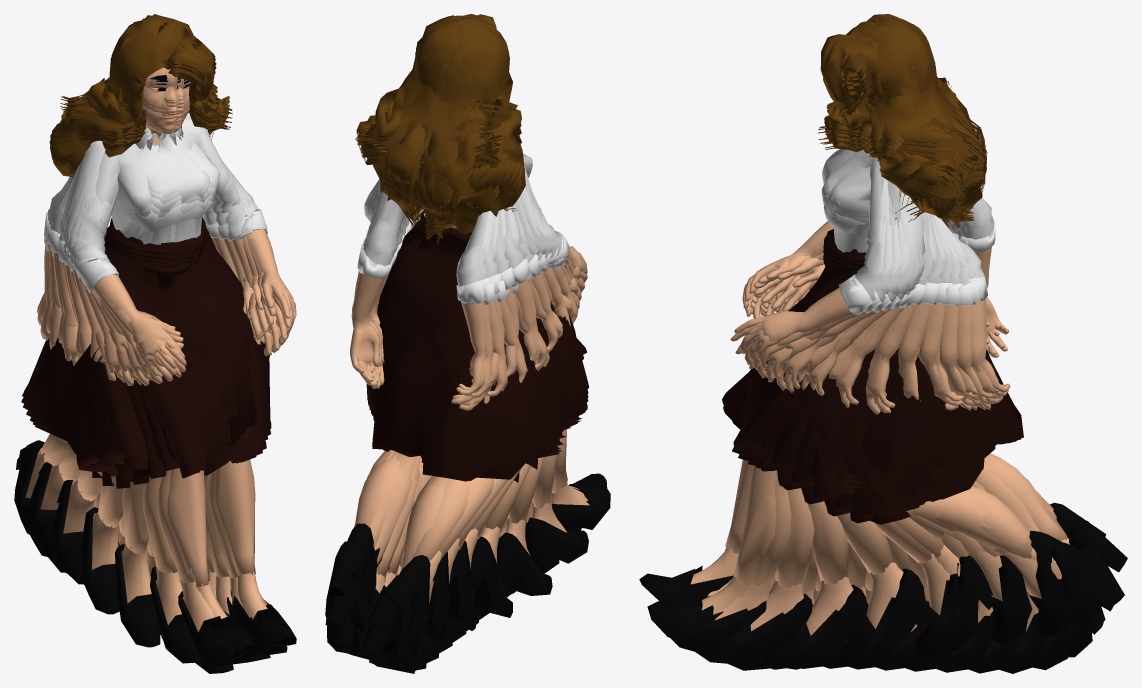
File: caminante_hombre2.glb
The picture shows the model from 3 angles, left to right: view 1: azimuth 30°, elevation 25°; view 2: azimuth 150°, elevation 25°; view 3: azimuth 270°, elevation 25°; orthographic projection. The views are drawn at different scales.
Parts seen in each view (by area): view 1: frame13, frame14, frame17, frame6, frame12, frame15, frame16, frame2, frame11, frame7, frame10, frame4 (+12 smaller); view 2: frame13, frame8, frame20, frame9, frame7, frame12, frame10, frame14, frame0, frame1, frame2, frame11 (+12 smaller); view 3: frame2, frame0, frame1, frame3, frame20, frame6, frame4, frame21, frame23, frame19, frame17, frame22 (+12 smaller).
Part boxes in pixels (x1,y1,x2,y2): frame13: [52, 18, 254, 614]; frame14: [55, 20, 254, 647]; frame17: [46, 68, 280, 658]; frame6: [66, 71, 296, 651]; frame12: [50, 18, 265, 578]; frame15: [58, 46, 264, 663]; frame16: [52, 64, 273, 662]; frame2: [22, 16, 271, 546]; frame11: [29, 57, 269, 550]; frame7: [43, 83, 287, 657]; frame10: [15, 78, 245, 532]; frame4: [68, 47, 267, 508]; frame13: [363, 14, 578, 617]; frame8: [350, 144, 587, 673]; frame20: [325, 141, 578, 656]; frame9: [357, 89, 587, 668]; frame7: [351, 149, 584, 670]; frame12: [368, 19, 580, 630]; frame10: [366, 61, 587, 656]; frame14: [360, 14, 575, 595]; frame0: [355, 14, 536, 464]; frame1: [356, 14, 576, 464]; frame2: [358, 14, 588, 620]; frame11: [366, 33, 587, 643]; frame2: [739, 17, 986, 666]; frame0: [745, 21, 993, 654]; frame1: [743, 17, 992, 657]; frame3: [739, 40, 985, 669]; frame20: [734, 105, 1116, 657]; frame6: [647, 82, 1023, 640]; frame4: [705, 56, 983, 659]; frame21: [744, 65, 1107, 622]; frame23: [744, 41, 1032, 644]; frame19: [730, 134, 1103, 670]; frame17: [639, 73, 1027, 673]; frame22: [743, 57, 1068, 635].
Bounding box in the file's own units: 1.39 × 4.14 × 2.87.
